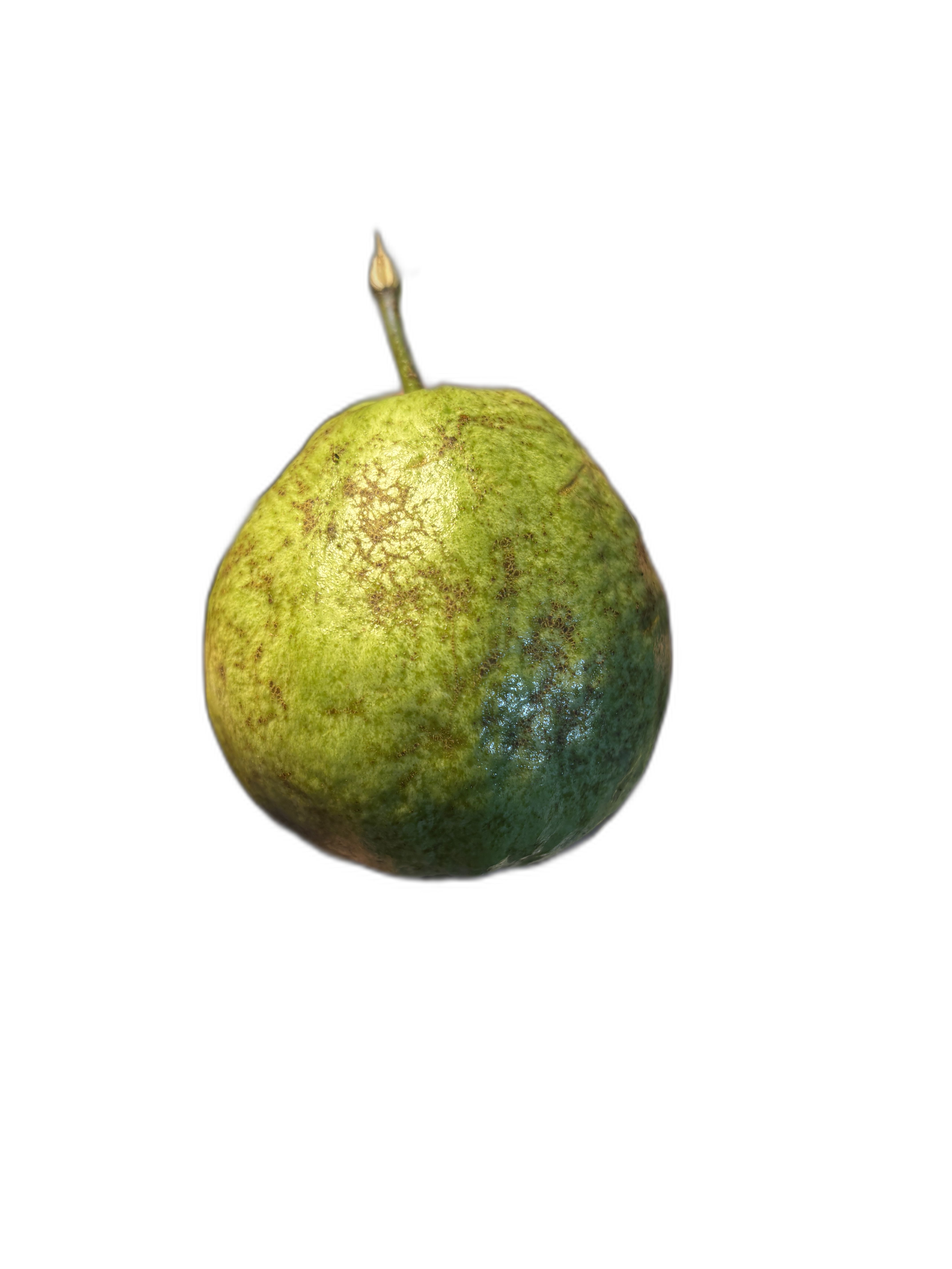guava: (104, 25, 930, 1036)
